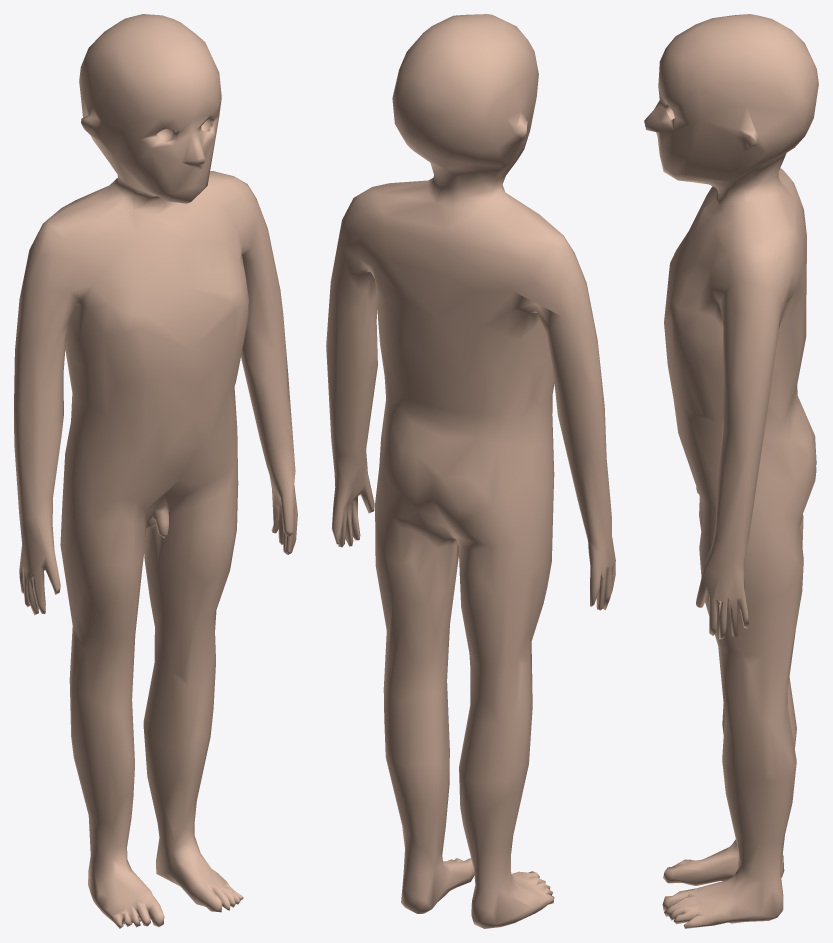
The model's file is pediatric_child_5y_male.surface.LOD3.glb.
3 renders of one model, left to right at view 1: azimuth 30°, elevation 25°; view 2: azimuth 150°, elevation 25°; view 3: azimuth 270°, elevation 25°, orthographic.
Visible parts, largest first — view 1: PEDIATRIC.CHILD_5Y.MALE.SURFACE.SKIN; view 2: PEDIATRIC.CHILD_5Y.MALE.SURFACE.SKIN; view 3: PEDIATRIC.CHILD_5Y.MALE.SURFACE.SKIN.
Part boxes in pixels (x1=…): PEDIATRIC.CHILD_5Y.MALE.SURFACE.SKIN: x1=14, y1=14, x2=297, y2=928; PEDIATRIC.CHILD_5Y.MALE.SURFACE.SKIN: x1=326, y1=14, x2=615, y2=928; PEDIATRIC.CHILD_5Y.MALE.SURFACE.SKIN: x1=644, y1=14, x2=818, y2=928.
Size of the model in its own units: 0.3533 by 1.09 by 0.1963.
